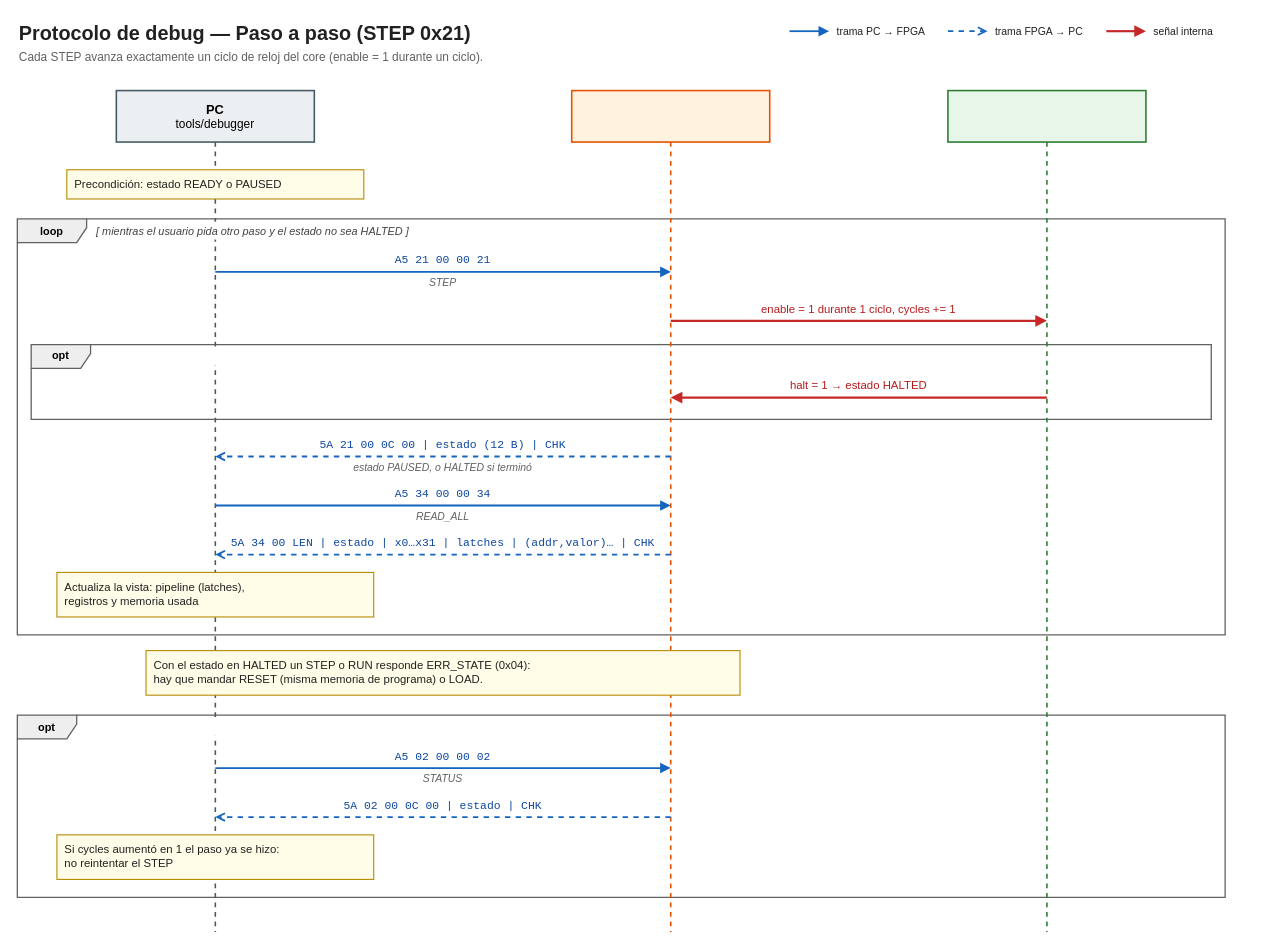
Image size: 1278x949. Some labels were removed from this diagram. Each missing label, with the box of its shape:
[ en ese ciclo la instrucción HALT llegó a WB ]: (98, 347, 392, 365)
[ si se perdió la respuesta a un STEP ]: (84, 718, 330, 735)
Core + memorias FPGA · pipeline, BRAM: (947, 89, 1146, 932)
Debug Unit FPGA · rtl/debug: (570, 89, 770, 932)
